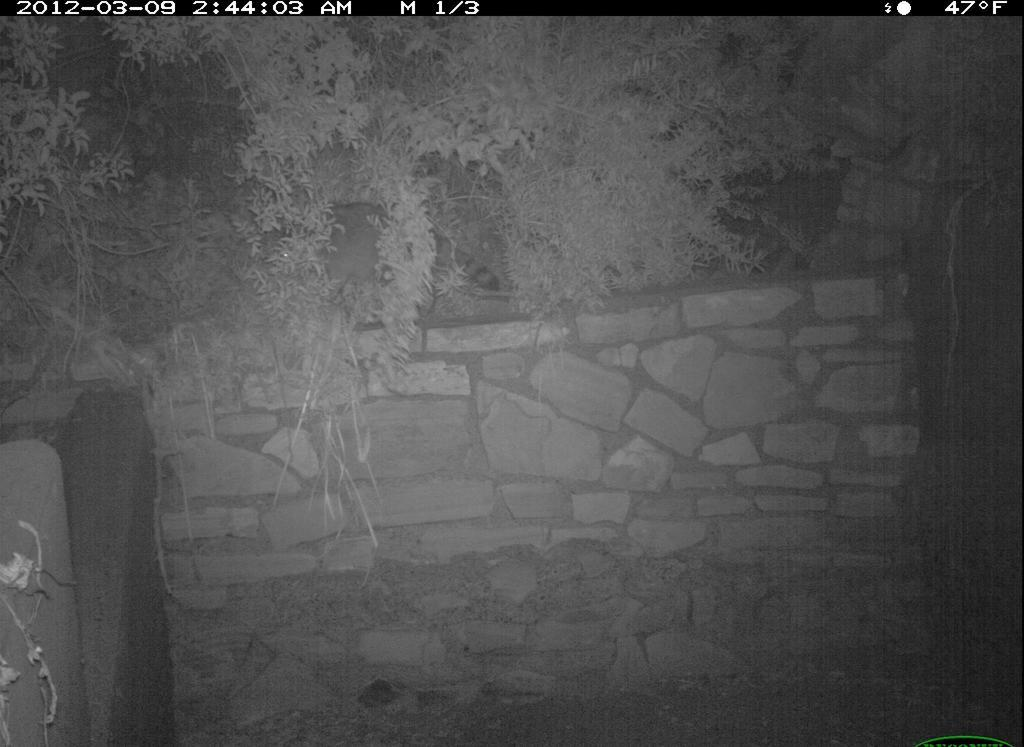raccoon: (258, 185, 515, 317)
